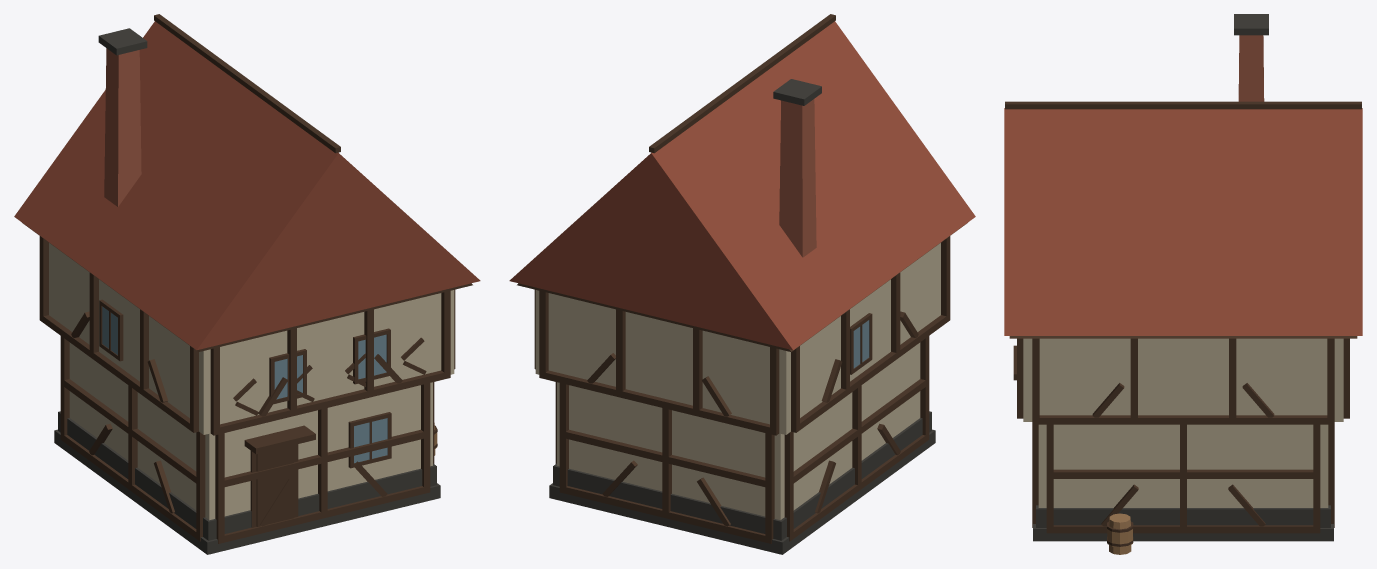
File: house_small_02.glb
The picture shows the model from 3 angles, left to right: view 1: azimuth 30°, elevation 25°; view 2: azimuth 150°, elevation 25°; view 3: azimuth 270°, elevation 25°; orthographic projection.
Parts seen in each view (by area): view 1: house_small_02_lod0; view 2: house_small_02_lod0; view 3: house_small_02_lod0.
Part boxes in pixels (x1,y1,x2,y2): house_small_02_lod0: (14, 14, 480, 554); house_small_02_lod0: (509, 14, 975, 554); house_small_02_lod0: (1004, 14, 1362, 554).
Size of what is drawn, in the model's own units: 7.47 by 10.26 by 7.92.
